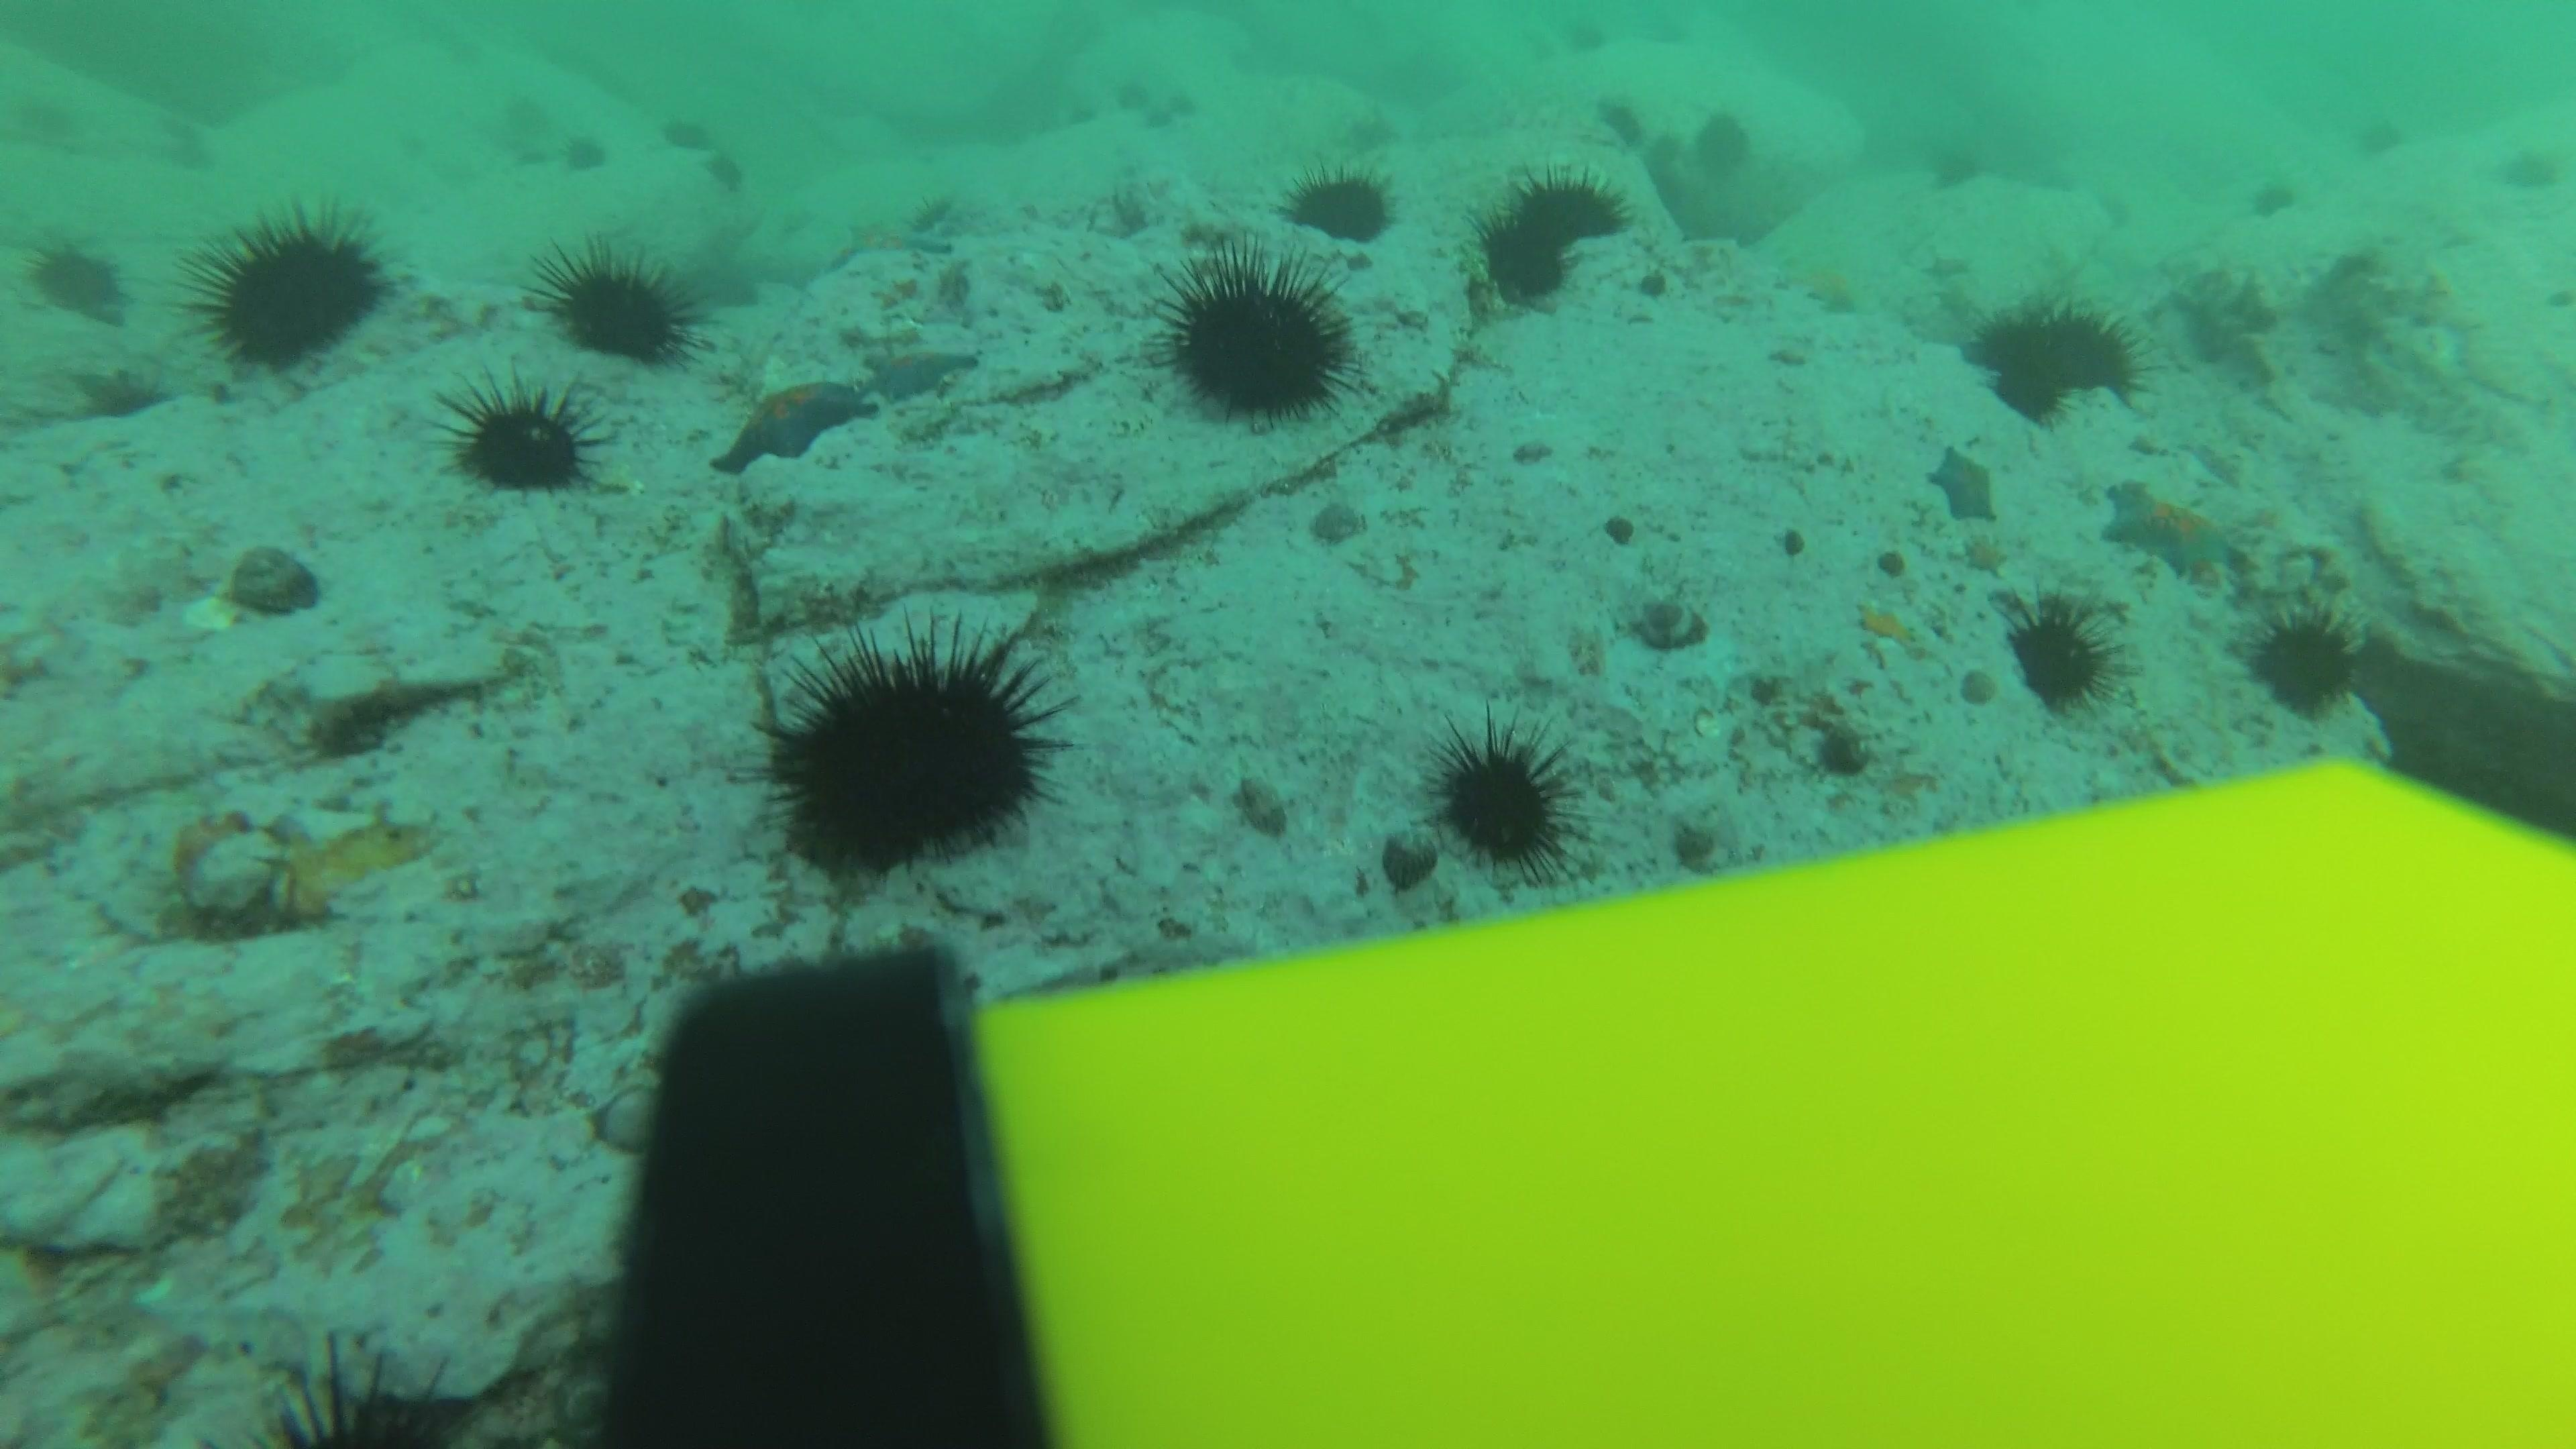echinus: (755, 610, 1069, 881), (1154, 246, 1359, 428), (191, 200, 393, 375), (235, 1329, 494, 1440), (1424, 717, 1580, 874), (1966, 294, 2146, 425), (1472, 163, 1626, 310), (538, 244, 699, 370), (444, 375, 602, 501), (1999, 593, 2120, 717), (2243, 605, 2365, 718), (1283, 159, 1396, 248), (25, 232, 131, 324), (76, 370, 173, 430), (1688, 104, 1759, 182), (1562, 7, 1626, 57), (1927, 147, 1989, 196), (2236, 180, 2298, 230), (2353, 111, 2415, 161), (1628, 4, 1690, 53), (1596, 99, 1658, 149), (697, 149, 747, 195), (662, 111, 711, 157), (564, 133, 614, 179), (513, 133, 563, 177), (173, 145, 223, 189), (154, 108, 203, 152), (23, 97, 73, 142), (1162, 83, 1203, 117), (1065, 92, 1106, 126), (1146, 106, 1185, 138), (1116, 80, 1155, 111)
starfish: (708, 375, 881, 479), (2097, 478, 2250, 584), (856, 338, 985, 403), (1923, 442, 2003, 527), (1851, 594, 1928, 658), (1790, 258, 1867, 318), (846, 203, 901, 253), (1918, 239, 1973, 288), (1962, 524, 2010, 573)
